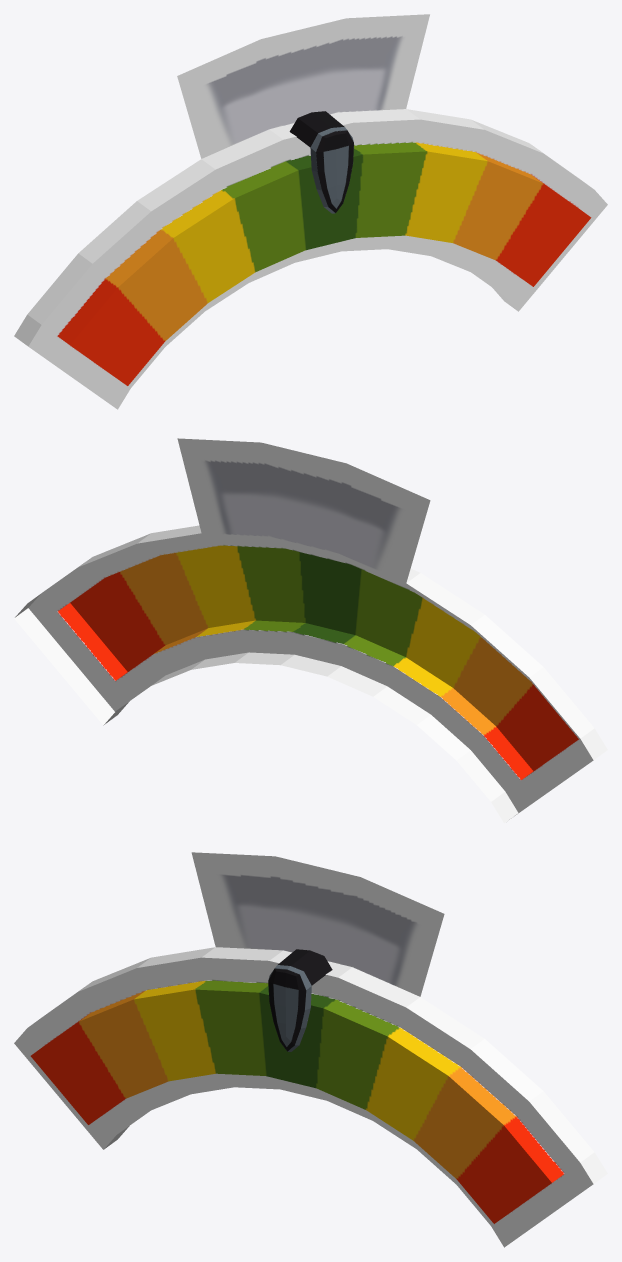
The model's file is scoreboard.fbx.
3 renders of one model, top to bottom at view 1: azimuth 30°, elevation 25°; view 2: azimuth 150°, elevation 25°; view 3: azimuth 330°, elevation 25°, orthographic.
Visible parts, largest first — view 1: board, arrow; view 2: board; view 3: board, arrow.
Part boxes in pixels (left/top/right/bottom): board: left=14, top=14, right=607, bottom=409; arrow: left=289, top=111, right=353, bottom=213; board: left=14, top=438, right=607, bottom=823; board: left=14, top=852, right=607, bottom=1247; arrow: left=268, top=949, right=332, bottom=1051.
Bounding box in the file's own units: 119 × 63.18 × 11.6.
Materials: 1 (1 with a texture image).
